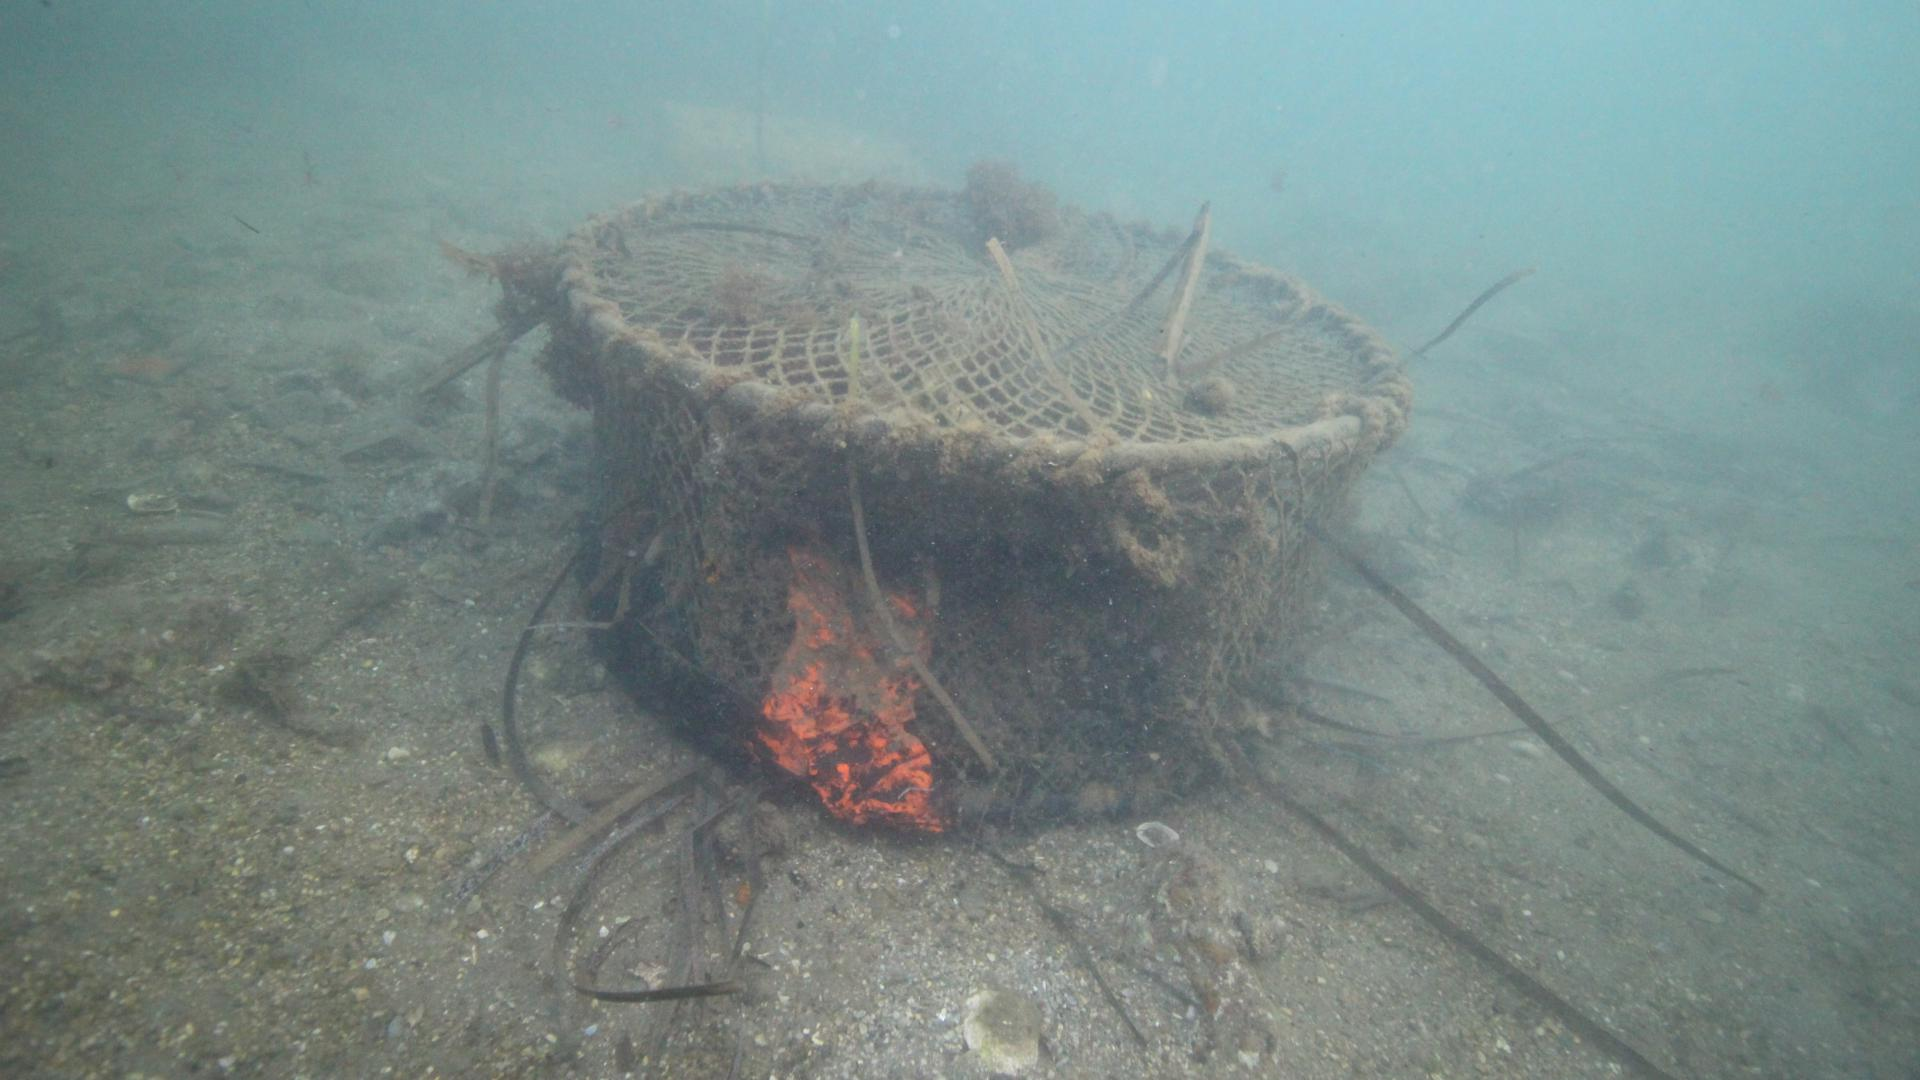circular fish trap: (547, 179, 1414, 824)
